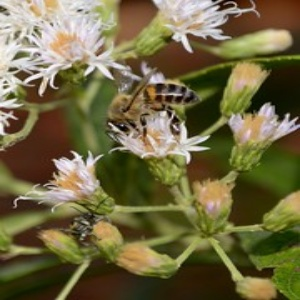bee: (103, 66, 208, 149)
